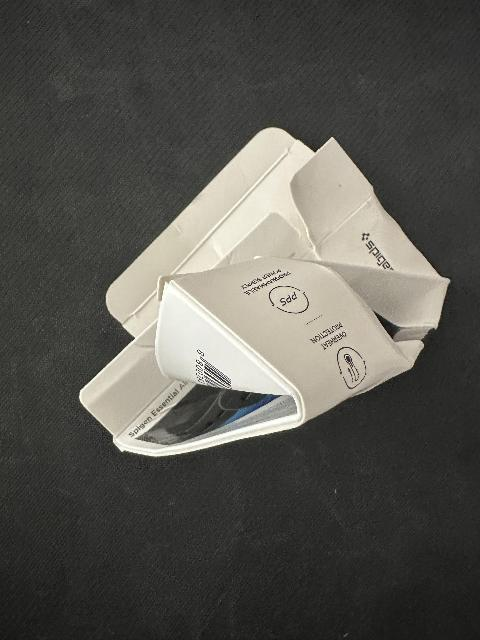Kagit: (65, 117, 454, 460)
